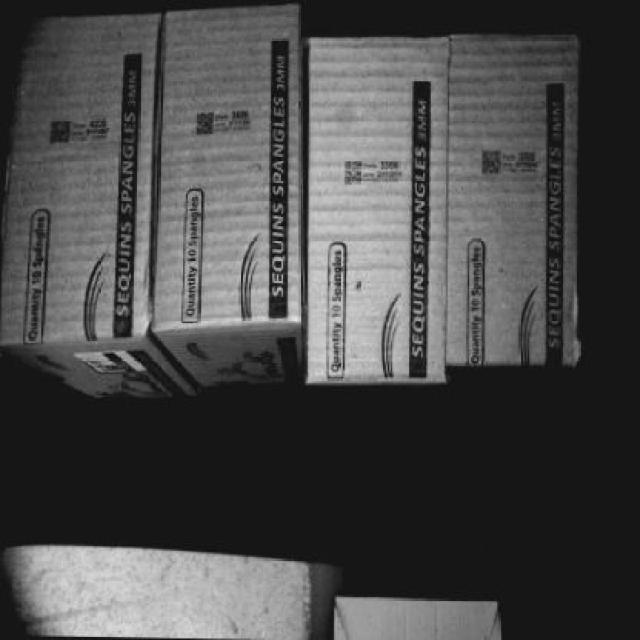cardboxes: (5, 10, 156, 342), (305, 36, 449, 379), (159, 8, 303, 328), (448, 34, 586, 366)
